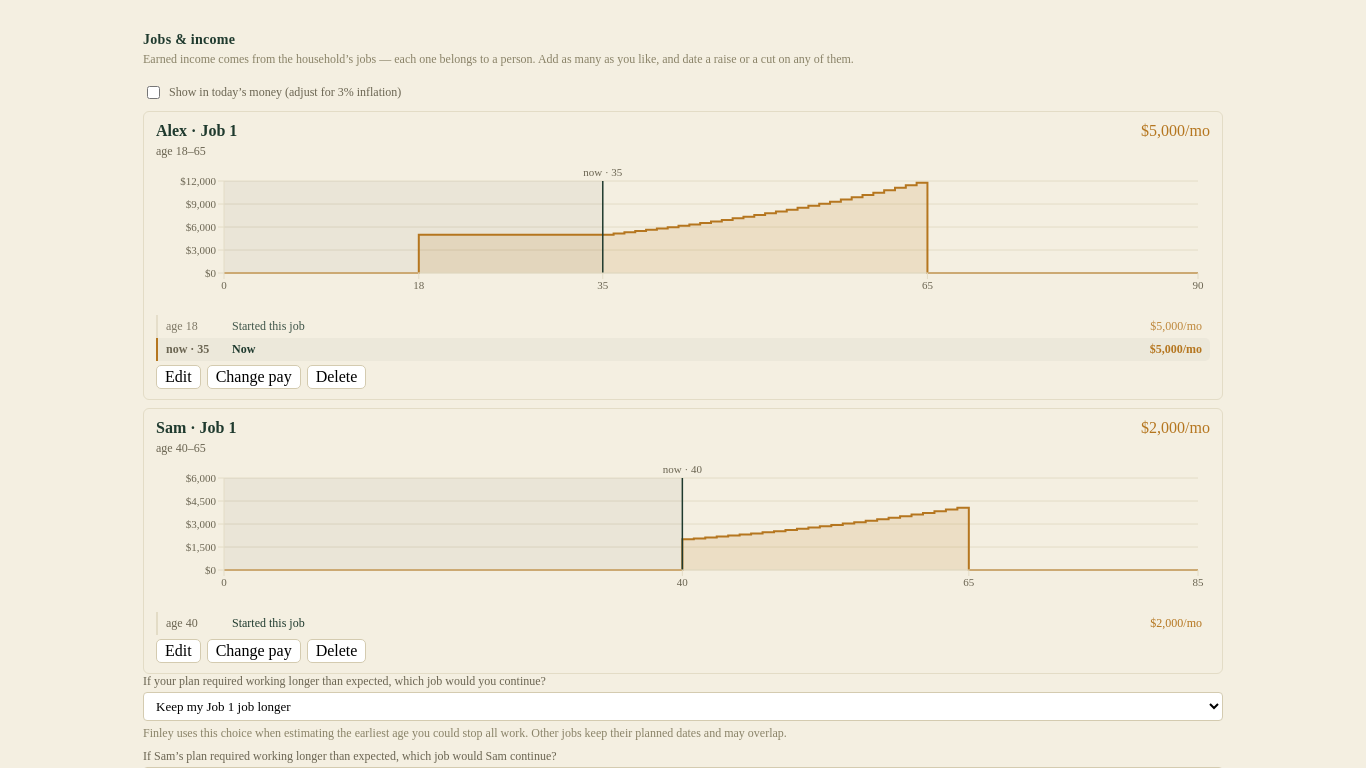
JobsPanel — every member's jobs › deletes a partner's job without touching the plan
Click the button with aria-label "Delete Sam · Job 1" at (337, 651), box [307, 639, 366, 663]
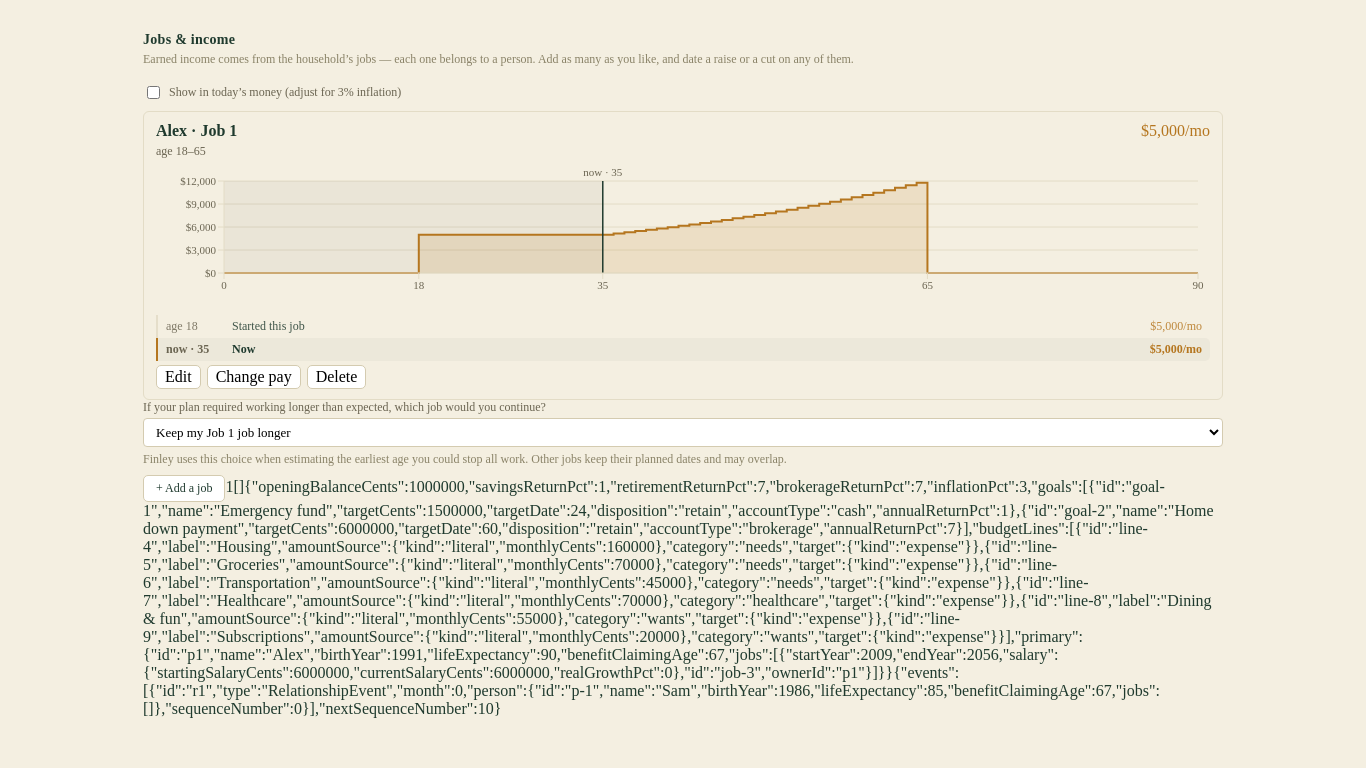
Check: the text labelled "Sam · Job 1" is gone
